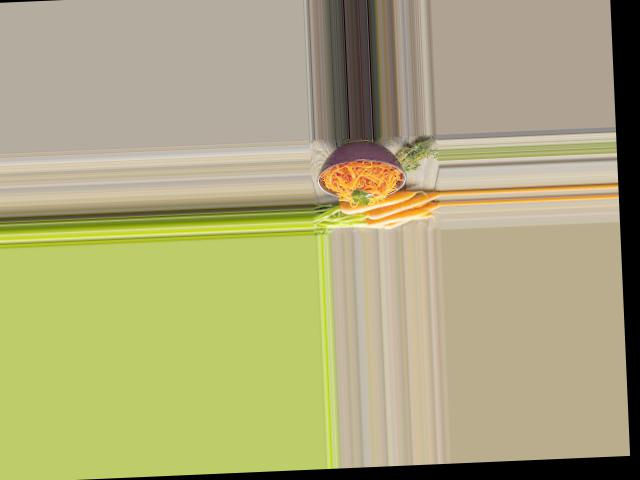carrot: (334, 190, 421, 215)
